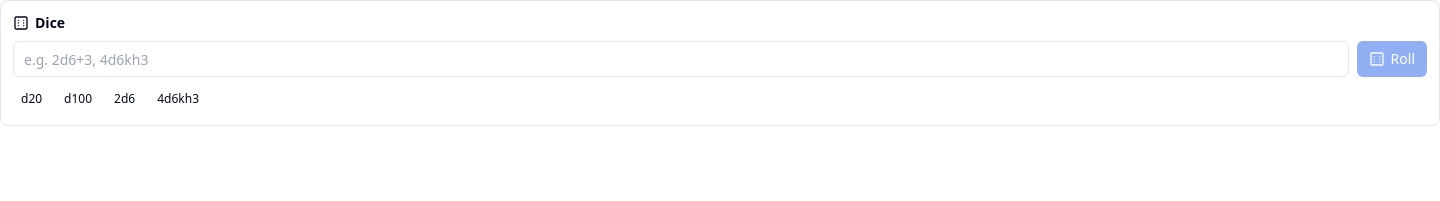
DicePanel › rolls a quick-roll preset
Click the button "4d6kh3" at (178, 99), box [149,85,207,113]
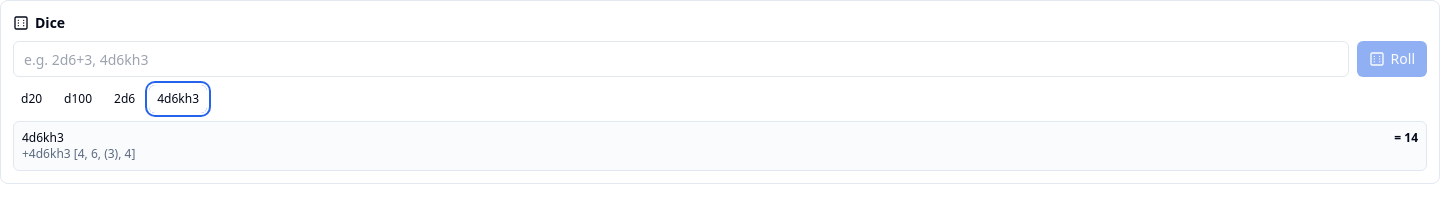
Result: the list item shows "4d6kh3" at [22,129,64,146]
